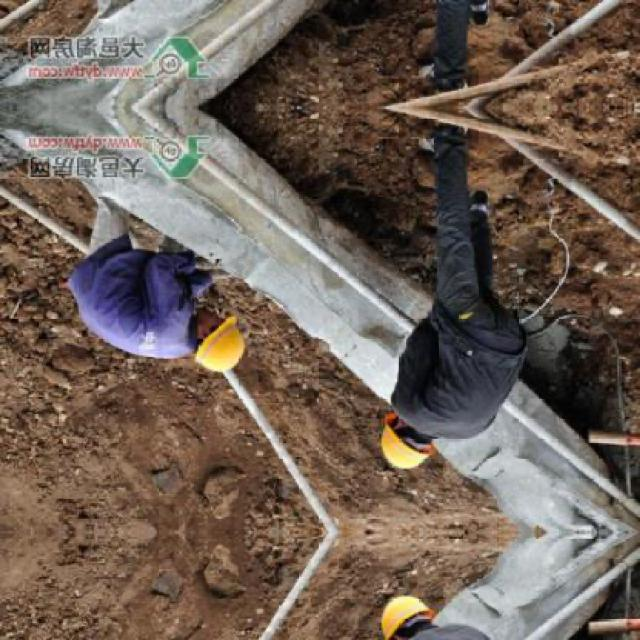con casco: (151, 254, 268, 397), (352, 375, 462, 505)
